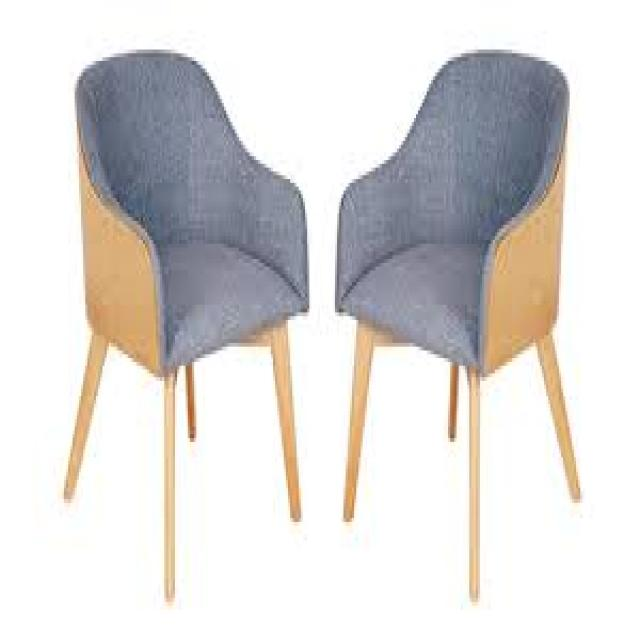chair: (324, 8, 616, 627), (33, 43, 323, 624)
